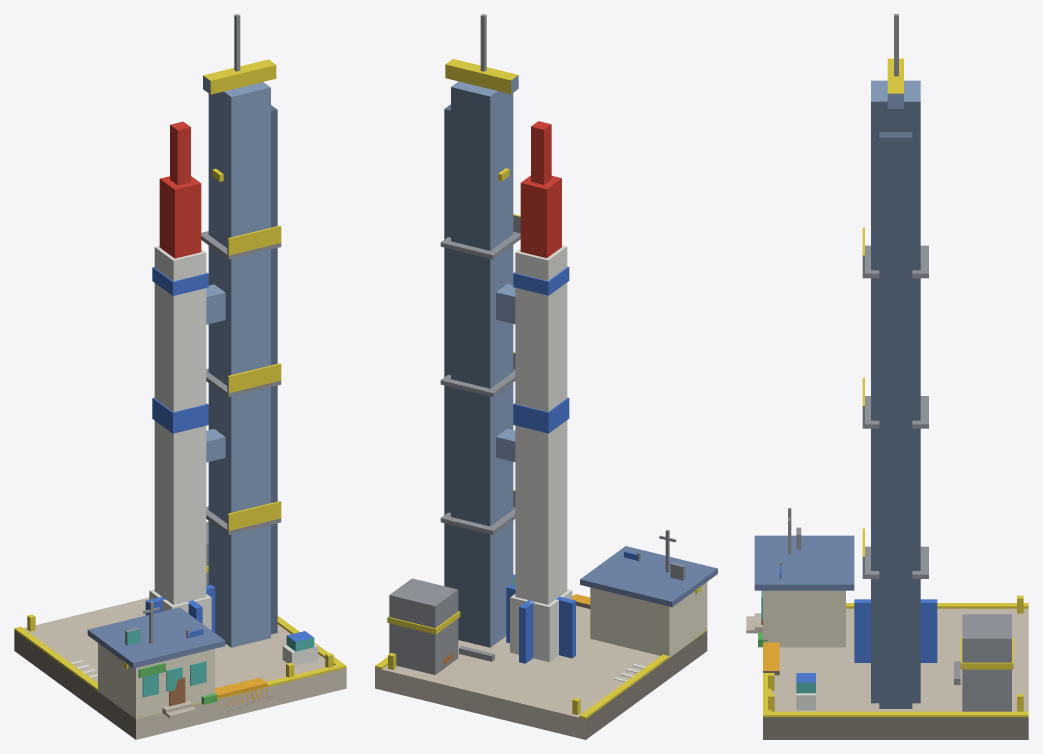
File: RocketLaunchTower.fbx
3 renders of one model, left to right at view 1: azimuth 30°, elevation 25°; view 2: azimuth 150°, elevation 25°; view 3: azimuth 270°, elevation 25°, orthographic. The views are drawn at different scales.
Visible parts, largest first — view 1: RocketLaunchTower; view 2: RocketLaunchTower; view 3: RocketLaunchTower.
Part boxes in pixels (box(x1,y1,x2,y2)): RocketLaunchTower: box(14, 14, 346, 739); RocketLaunchTower: box(375, 14, 717, 739); RocketLaunchTower: box(746, 14, 1028, 739).
Bounding box in the file's own units: 1650 × 4650 × 1700.
